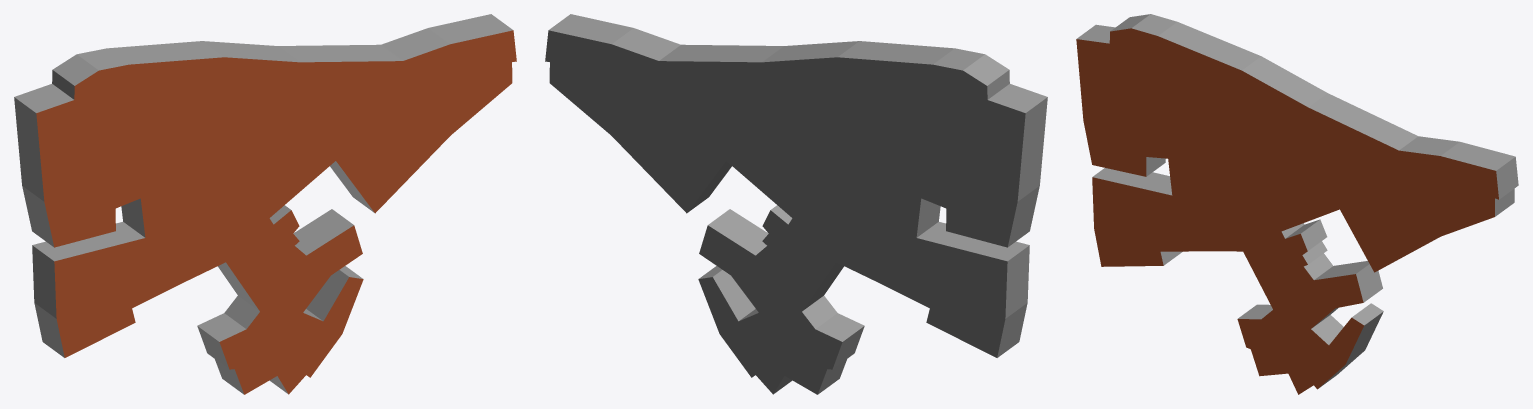
File: construction_2458_assumed_A_Casa_h6m.obj
The picture shows the model from 3 angles, left to right: view 1: azimuth 30°, elevation 25°; view 2: azimuth 150°, elevation 25°; view 3: azimuth 330°, elevation 25°; orthographic projection. The views are drawn at different scales.
Visible parts, largest first — view 1: construction_2458_assumed_A_Casa; view 2: construction_2458_assumed_A_Casa; view 3: construction_2458_assumed_A_Casa.
Part boxes in pixels (<box>): construction_2458_assumed_A_Casa: <box>14,14,516,394</box>; construction_2458_assumed_A_Casa: <box>545,14,1047,394</box>; construction_2458_assumed_A_Casa: <box>1076,14,1518,394</box>.
Bounding box in the file's own units: 74.8 × 55.1 × 6.
